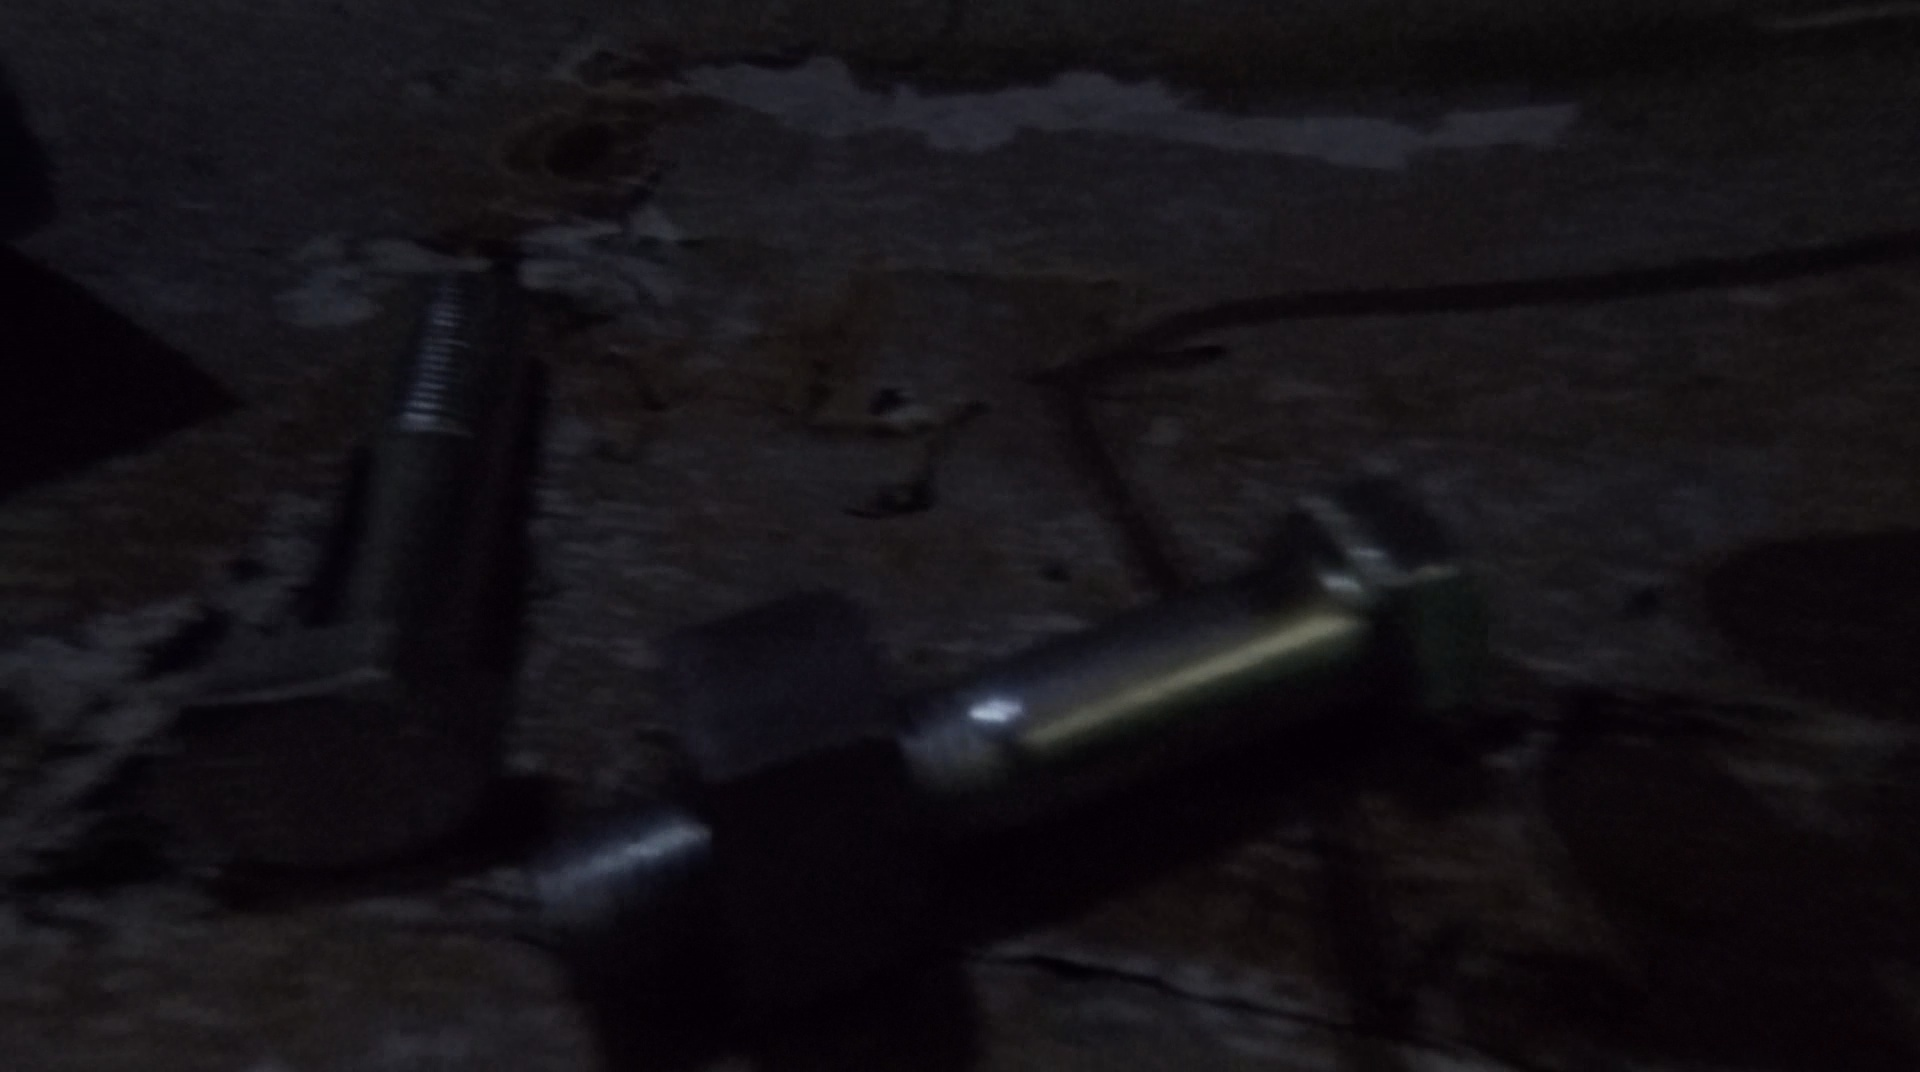bolt: (533, 479, 1490, 953), (177, 266, 520, 868)
nut: (654, 588, 945, 1017)
